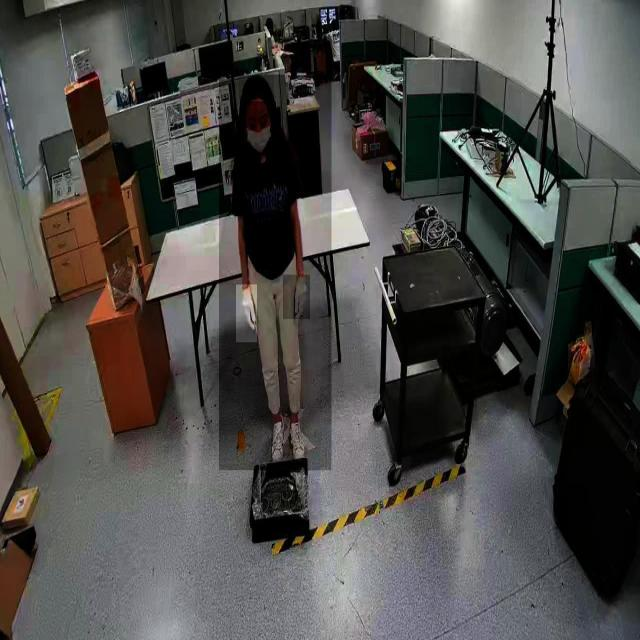face_mask: (240, 101, 276, 156)
hand_glove: (236, 285, 258, 343), (283, 275, 311, 320)
head_nohelmet: (239, 72, 275, 100)
person: (219, 75, 332, 471)
shoes: (267, 410, 287, 466), (287, 412, 307, 462)
